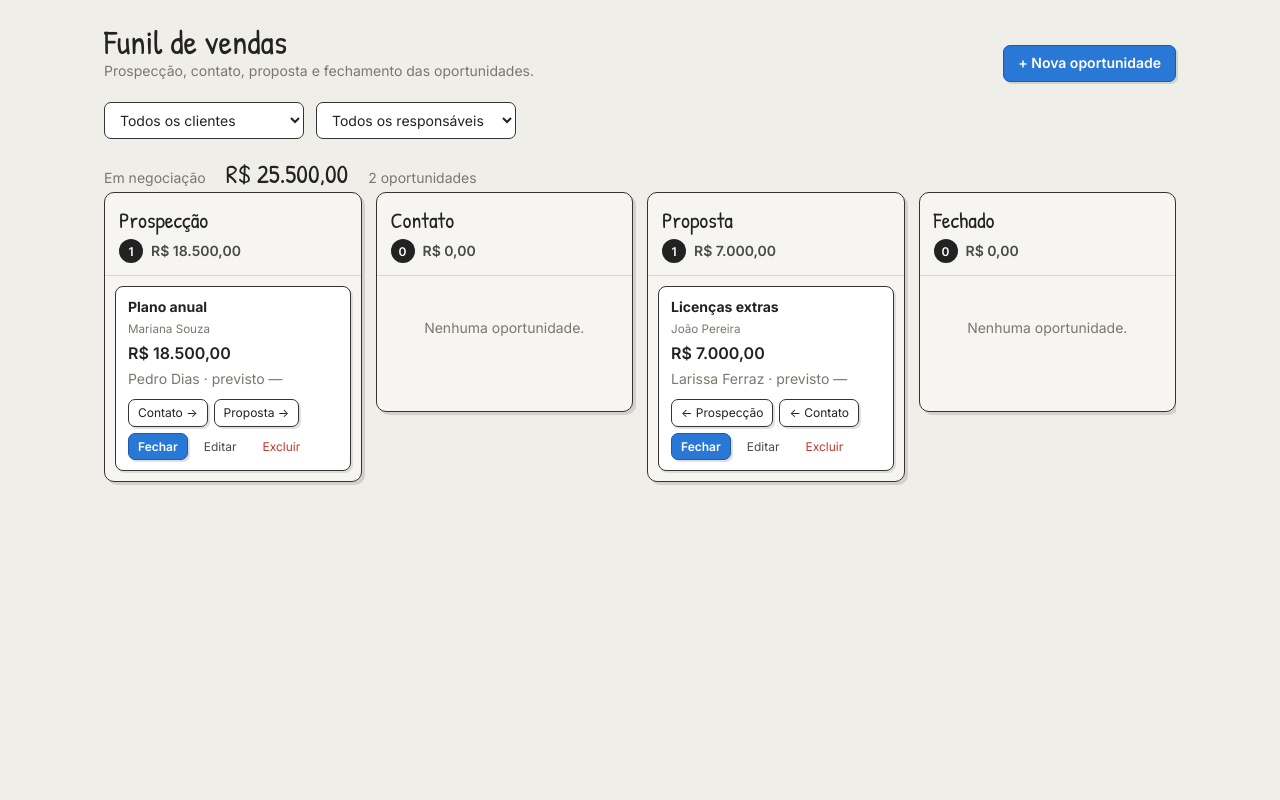
Test: OportunidadesApp (microfrontend) › fechar como ganho avisa que o cliente será ativado
What coordinates should you click on to do the following:
click the button with aria-label "Fechar Licenças extras"
I would click on:
 (701, 446)
Its box is 671,433 -> 731,460.
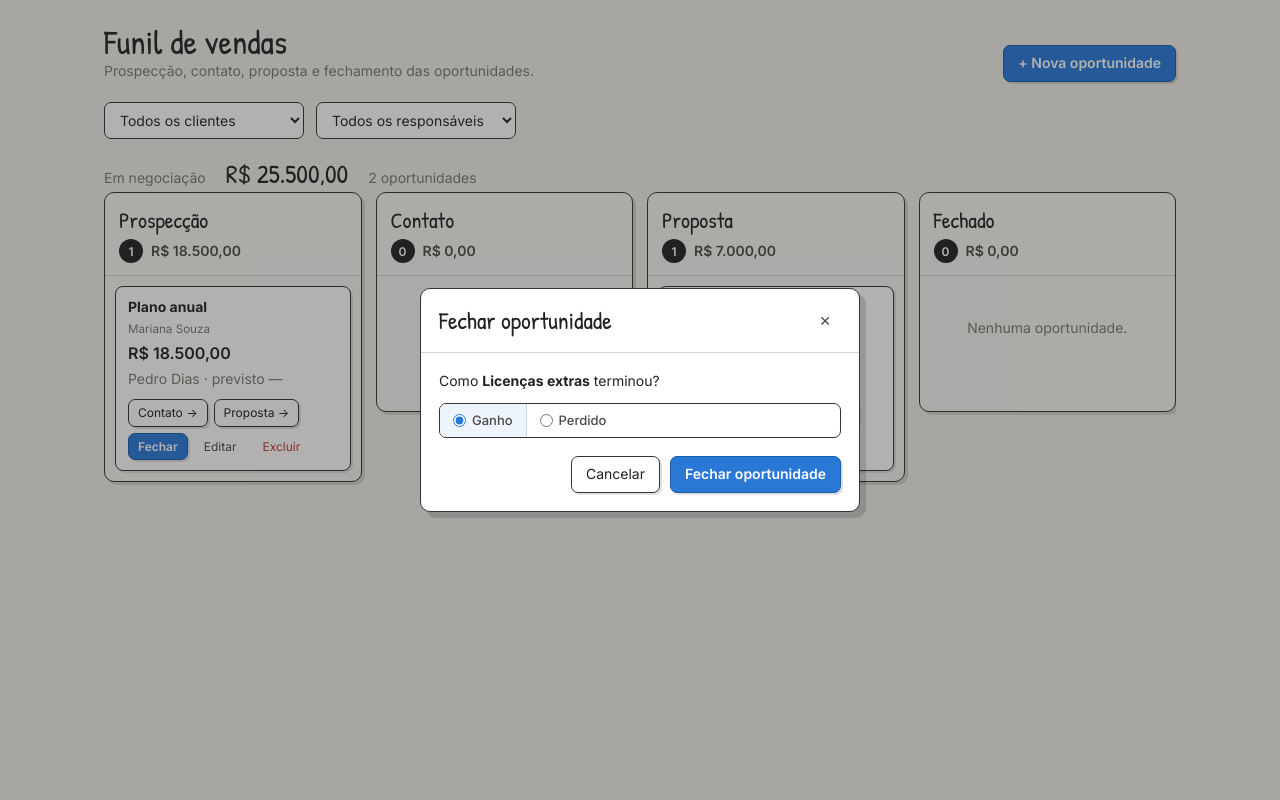
What coordinates should you click on to do the following:
click the button "Fechar oportunidade"
I would click on:
 (756, 474)
Its box is 670,456 -> 841,493.
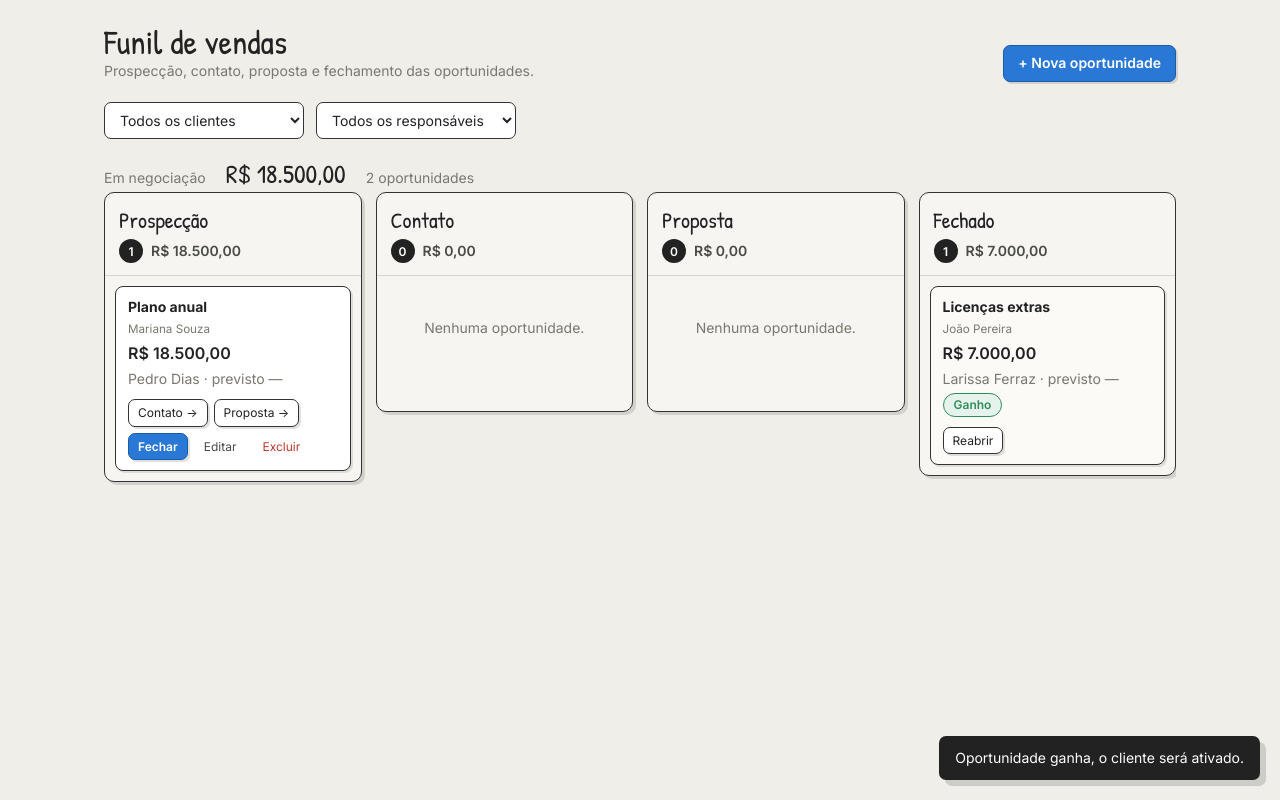
Expected: the message reads "Oportunidade ganha, o cliente será ativado.", 955,749 -> 1244,766
